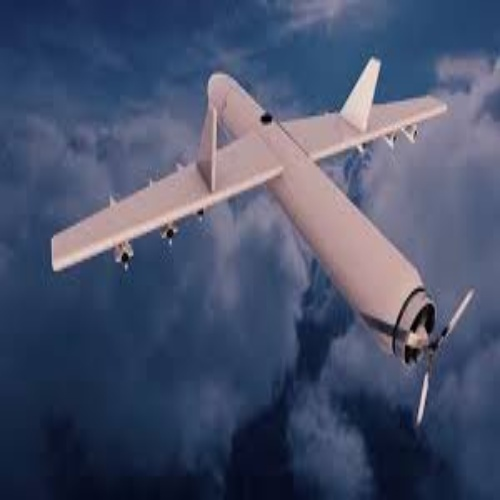uav731: (50, 55, 477, 431)
